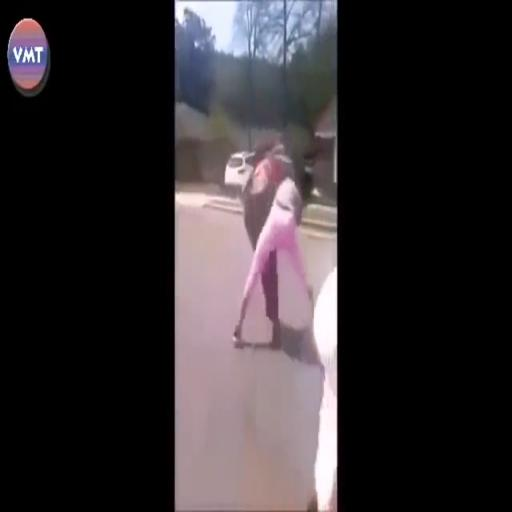violencia: (228, 135, 319, 361)
